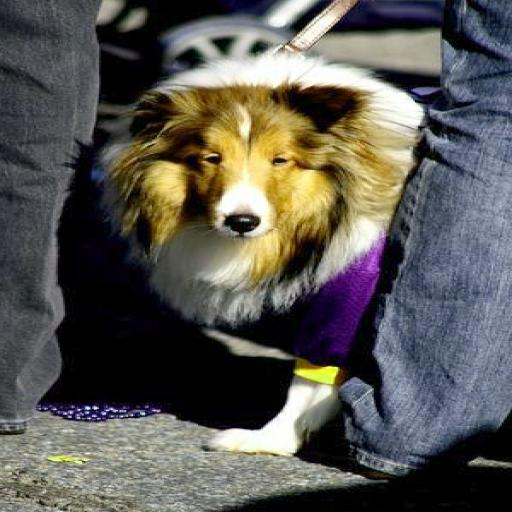dog_face: (114, 81, 355, 238)
